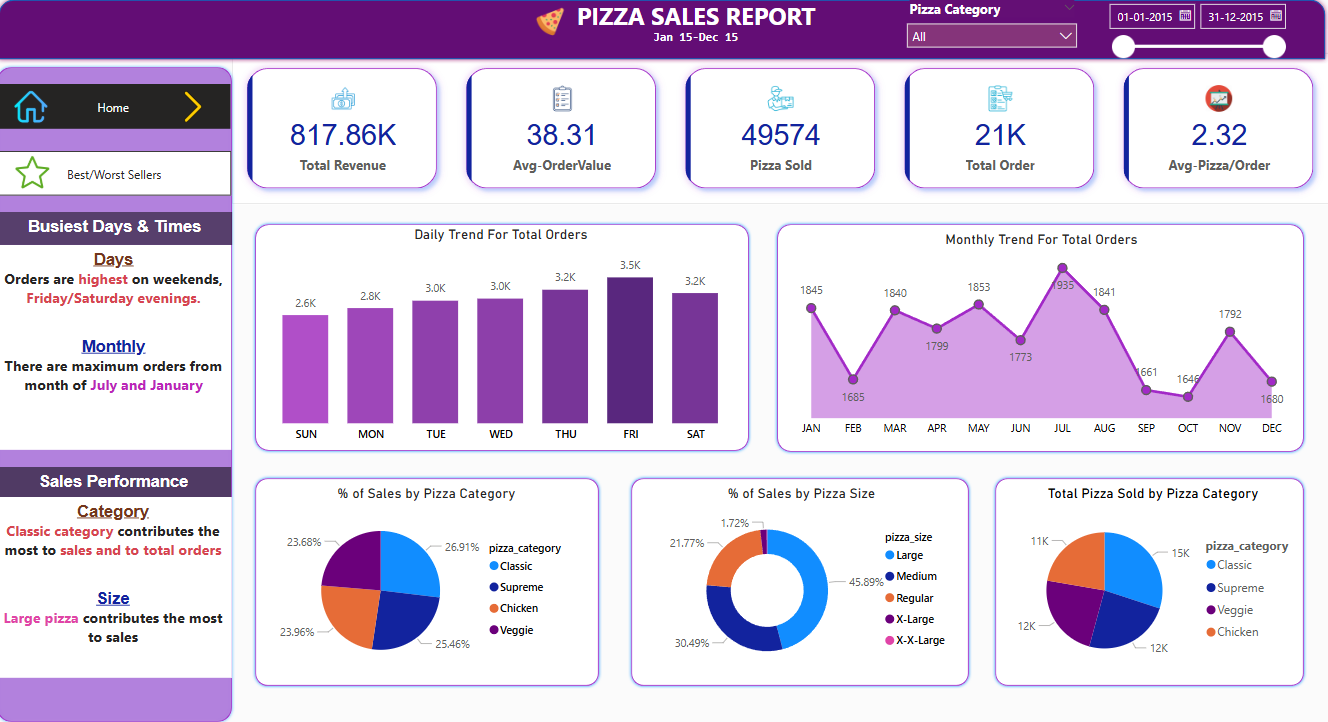

Layout of this report page (visuals, bound fields, positions):
{"tool":"powerbi","page":{"name":"Home","canvas":[1500,820],"ordinal":0},"visuals":[{"type":"cardVisual","fields":{"Data":["pizza_sales.Total Revenue","pizza_sales.Avg-OrderValue","pizza_sales.Pizza Sold","pizza_sales.Total Order","pizza_sales.Avg-Pizza/Order"]},"box":[267.2,65.1,1232.8,169.5],"z":0},{"type":"shape","box":[0,0,1500,77.5],"z":1000},{"type":"textbox","box":[647.8,0,280.7,65.1],"z":2000},{"type":"textbox","box":[724.5,32.9,127.2,36.3],"z":3000},{"type":"image","box":[433.8,9.1,381.5,42],"z":4000},{"type":"shape","box":[289.7,253.7,561.4,261.6],"z":5000},{"type":"columnChart","title":"Daily Trend For Total Orders","fields":{"Category":["pizza_sales.Order Day"],"Y":["pizza_sales.Total Order"]},"box":[289.7,259.4,559.1,251.5],"z":6000},{"type":"shape","box":[875.7,253.7,598.4,262.7],"z":7000},{"type":"areaChart","title":"Monthly Trend For Total Orders","fields":{"Category":["pizza_sales.Month-Name"],"Y":["pizza_sales.Total Order"]},"box":[893.7,265,564.7,239.1],"z":8000},{"type":"shape","box":[289.7,538.9,393,240.3],"z":9000},{"type":"shape","box":[711.8,538.9,386.2,240.3],"z":10000},{"type":"shape","box":[1120.5,538.9,353.7,240.3],"z":11000},{"type":"pieChart","title":"%  of Sales by Pizza Category","fields":{"Category":["pizza_sales.pizza_category"],"Y":["pizza_sales.Total Revenue"]},"box":[307.6,550.1,355.9,216.7],"z":12000},{"type":"donutChart","title":"% of Sales by Pizza Size","fields":{"Category":["pizza_sales.pizza_size"],"Y":["pizza_sales.Total Revenue"]},"box":[730.9,550.1,351.4,216.7],"z":13000},{"type":"pieChart","title":"Total Pizza Sold by Pizza Category","fields":{"Category":["pizza_sales.pizza_category"],"Y":["pizza_sales.Pizza Sold"]},"box":[1128.4,550.1,345.8,216.7],"z":14000},{"type":"shape","box":[0,77.5,270.6,742.1],"z":15000},{"type":"textbox","box":[3.4,243.6,263.8,37.1],"z":16000},{"type":"textbox","box":[2.2,280.7,263.8,230.2],"z":17000},{"type":"textbox","box":[2.2,529.9,263.8,33.7],"z":18000},{"type":"textbox","box":[0,563.6,267.2,203.2],"z":19000},{"type":"slicer","fields":{"Values":["pizza_sales.pizza_category"]},"box":[1015,0,211.1,68.5],"z":20000},{"type":"slicer","fields":{"Values":["pizza_sales.order_date"]},"box":[1239.5,0,218.9,77.5],"z":21000},{"type":"pageNavigator","box":[2.2,99.9,263.8,50.5],"z":22000},{"type":"pageNavigator","box":[3.4,175.1,263.8,50.5],"z":23000},{"type":"image","box":[18,99.9,47.2,50.5],"z":24000},{"type":"image","box":[19.1,174,48.3,50.5],"z":25000},{"type":"image","box":[201,99.9,44.9,50.5],"z":26000}]}

Visuals, with their boxes on the page's 1500x820 design canvas (x1, y1, x2, y2). These are canvas units, not pixel positions in the 1328x722 screenshot, which may show the page scaled, cropped or inside an application window:
cardVisual - pizza_sales.Total Revenue x pizza_sales.Avg-OrderValue: box=[267, 65, 1500, 235]
shape: box=[0, 0, 1500, 78]
textbox: box=[648, 0, 928, 65]
textbox: box=[724, 33, 852, 69]
image: box=[434, 9, 815, 51]
shape: box=[290, 254, 851, 515]
"Daily Trend For Total Orders" columnChart: box=[290, 259, 849, 511]
shape: box=[876, 254, 1474, 516]
"Monthly Trend For Total Orders" areaChart: box=[894, 265, 1458, 504]
shape: box=[290, 539, 683, 779]
shape: box=[712, 539, 1098, 779]
shape: box=[1120, 539, 1474, 779]
"%  of Sales by Pizza Category" pieChart: box=[308, 550, 664, 767]
"% of Sales by Pizza Size" donutChart: box=[731, 550, 1082, 767]
"Total Pizza Sold by Pizza Category" pieChart: box=[1128, 550, 1474, 767]
shape: box=[0, 78, 271, 820]
textbox: box=[3, 244, 267, 281]
textbox: box=[2, 281, 266, 511]
textbox: box=[2, 530, 266, 564]
textbox: box=[0, 564, 267, 767]
slicer - pizza_sales.pizza_category: box=[1015, 0, 1226, 68]
slicer - pizza_sales.order_date: box=[1240, 0, 1458, 78]
pageNavigator: box=[2, 100, 266, 150]
pageNavigator: box=[3, 175, 267, 226]
image: box=[18, 100, 65, 150]
image: box=[19, 174, 67, 224]
image: box=[201, 100, 246, 150]
